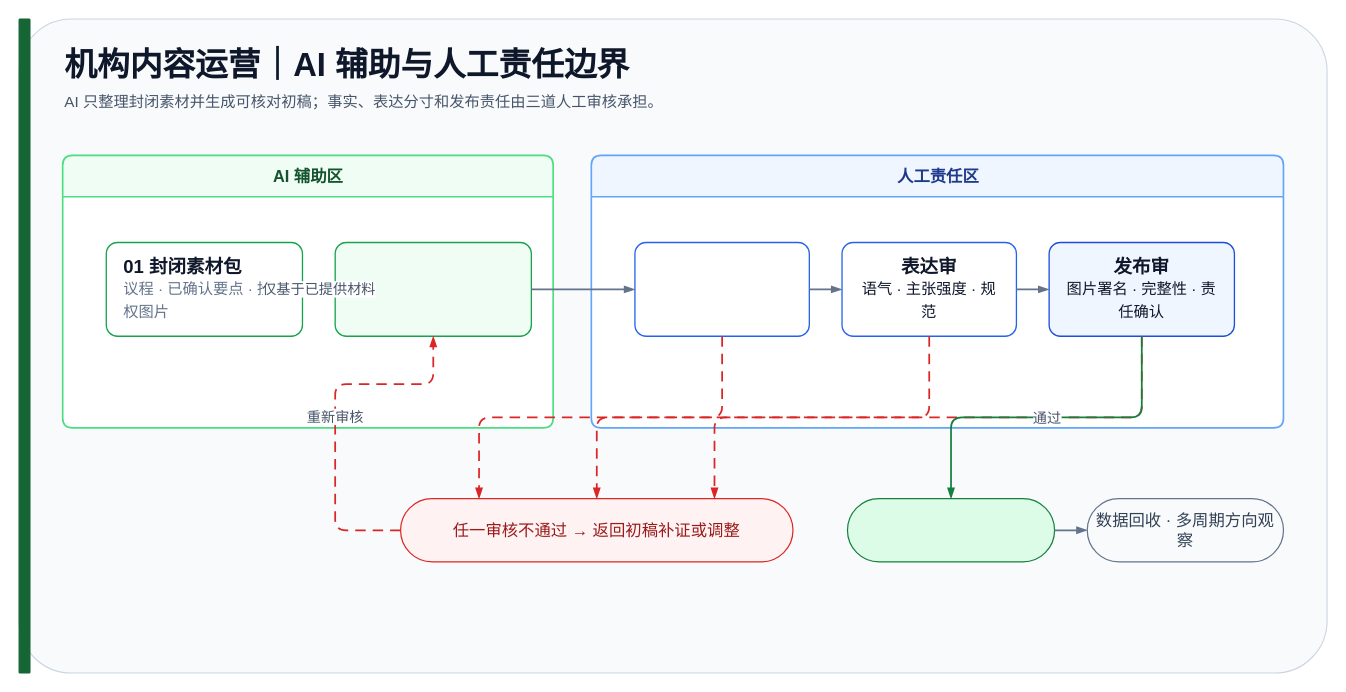
Image size: 1346x692. Some labels were removed from this diagram. The centre of each missing label's shape, as x and y in pixels:
"02 可核对初稿 模板 · 引用映射 · CHECK 清单" belongs at pixel 432 288.
"事实审 专名 · 时间 · 地点 · 数字" belongs at pixel 721 288.
"发布稿与检查表" belongs at pixel 950 530.
